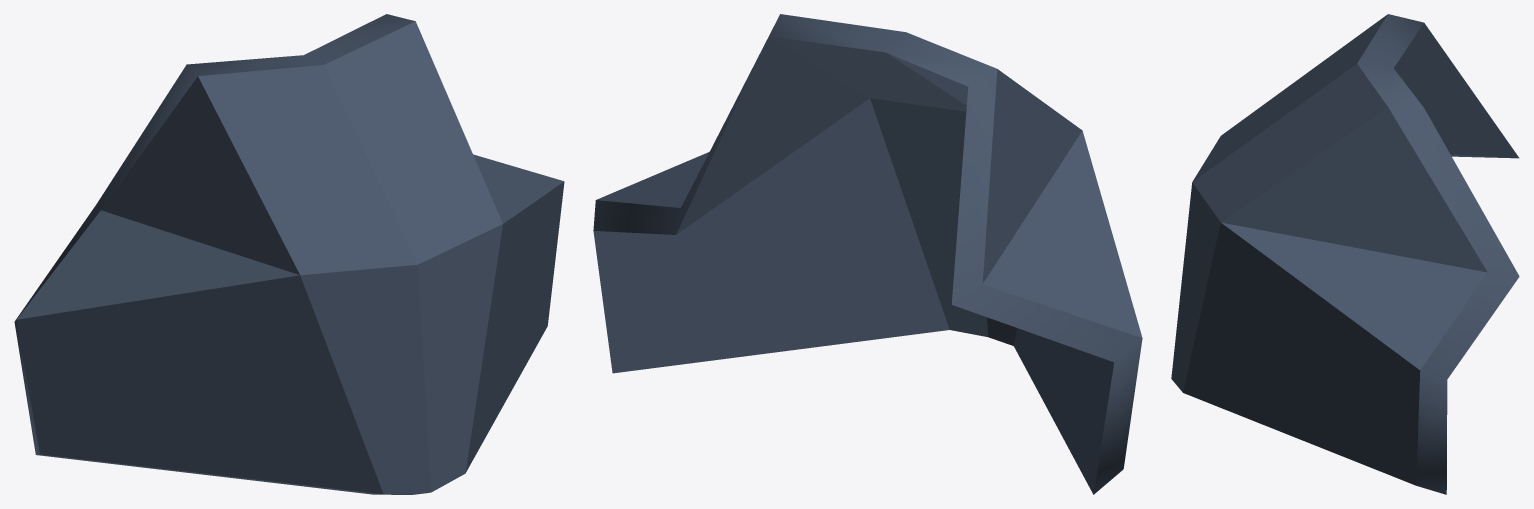
Rendered from acs17_part1_Armor1.fbx.
The picture shows the model from 3 angles, left to right: view 1: azimuth 30°, elevation 25°; view 2: azimuth 150°, elevation 25°; view 3: azimuth 270°, elevation 25°; orthographic projection. The views are drawn at different scales.
Parts seen in each view (by area): view 1: Armor1; view 2: Armor1; view 3: Armor1.
Boxes of the visible parts, left/top/right/bottom form: Armor1: left=14, top=14, right=564, bottom=494; Armor1: left=593, top=14, right=1142, bottom=494; Armor1: left=1171, top=14, right=1519, bottom=494.
Size of the model in its own units: 122 by 79.33 by 75.24.
